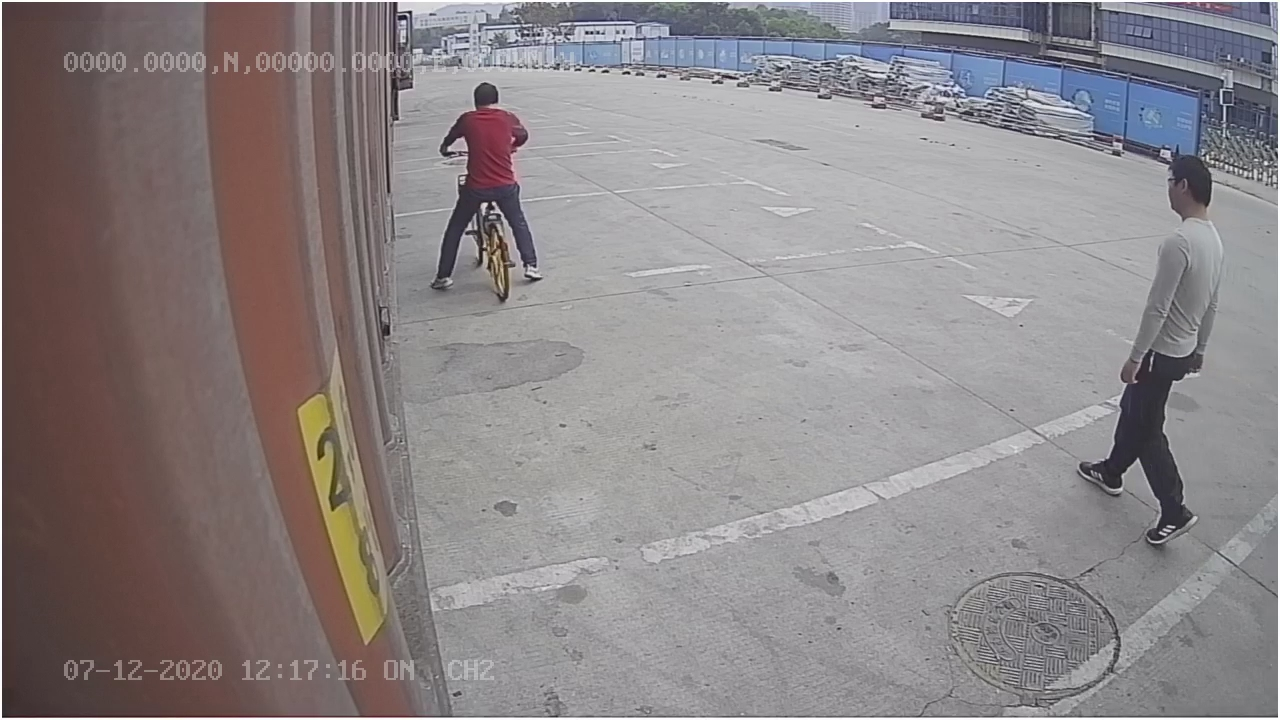person: (1075, 143, 1225, 553)
